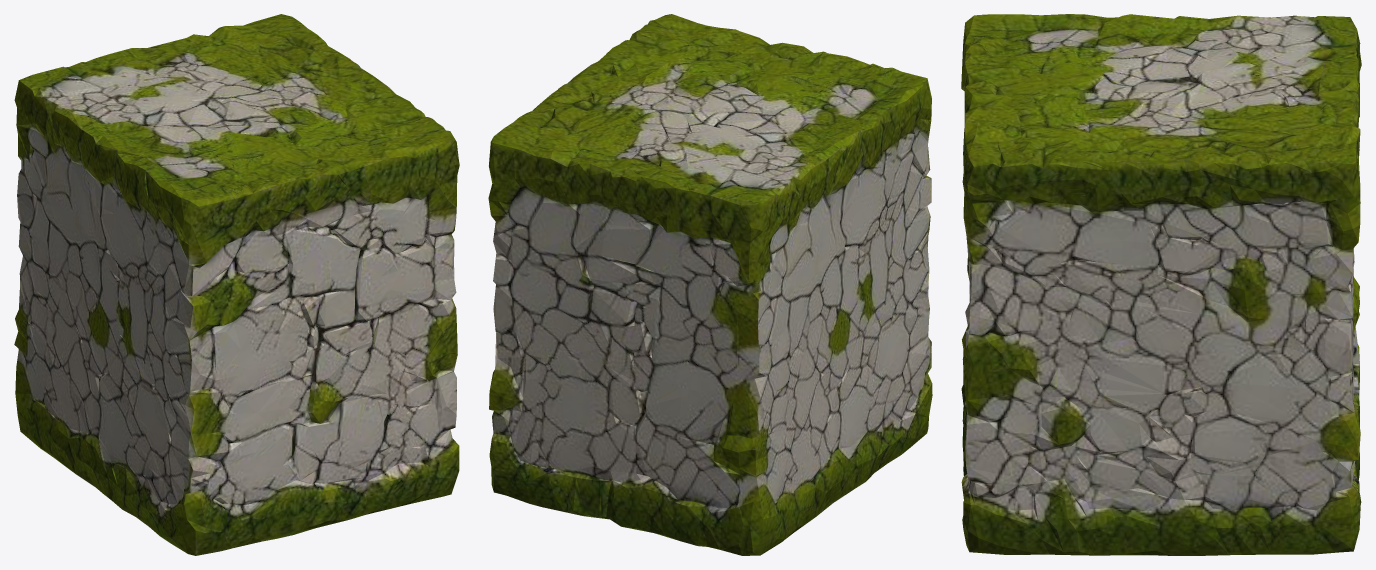
Rendered from pillar.glb.
3 views of the same model, side by side, from view 1: azimuth 30°, elevation 25°; view 2: azimuth 150°, elevation 25°; view 3: azimuth 270°, elevation 25° (orthographic). The views are drawn at different scales.
Parts seen in each view (by area): view 1: pillar; view 2: pillar; view 3: pillar.
Part boxes in pixels (x1=…): pillar: x1=14, y1=14, x2=459, y2=555; pillar: x1=488, y1=14, x2=932, y2=555; pillar: x1=961, y1=14, x2=1361, y2=555.
Size of the model in its own units: 1.62 by 2 by 1.82.
1 material, 1 textured.
